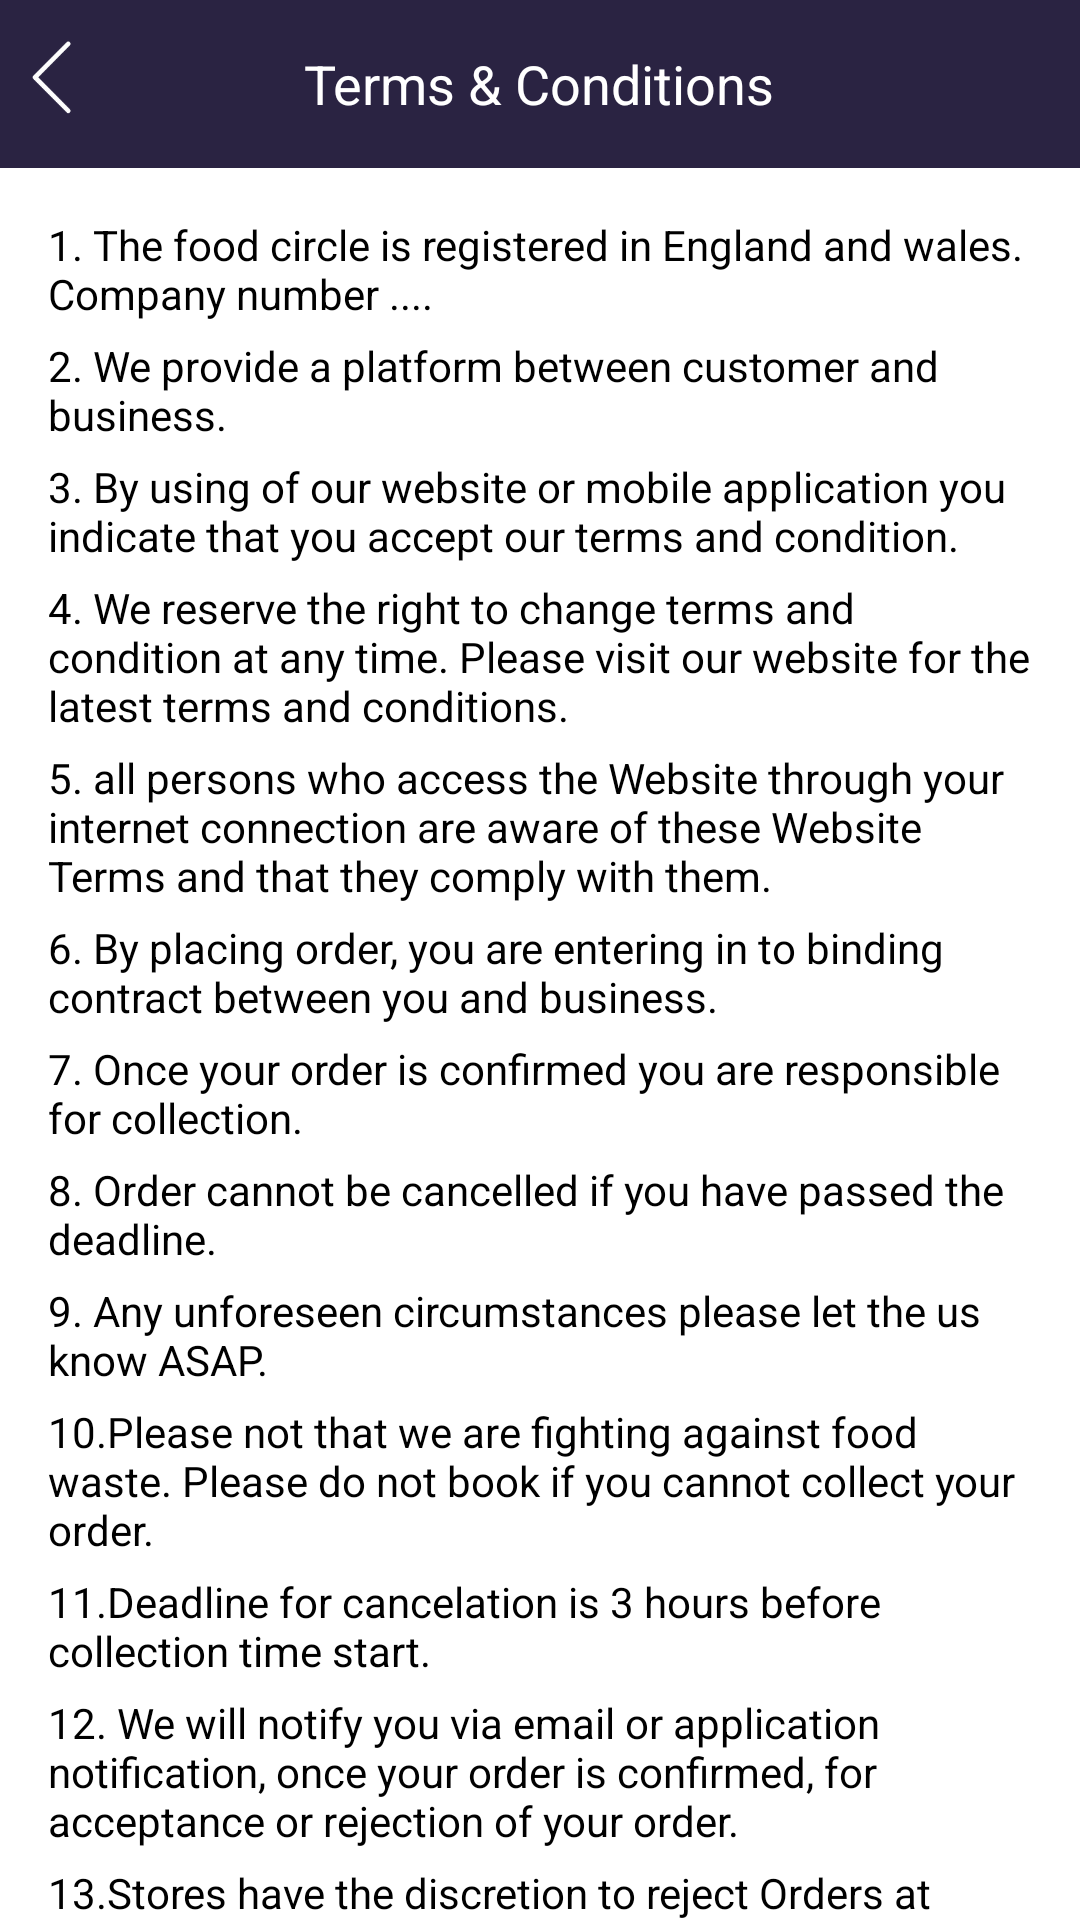

Point at icon controls on the screen. Image size 1080 x 1920, points as point (x, y).
back: point (51, 77)
